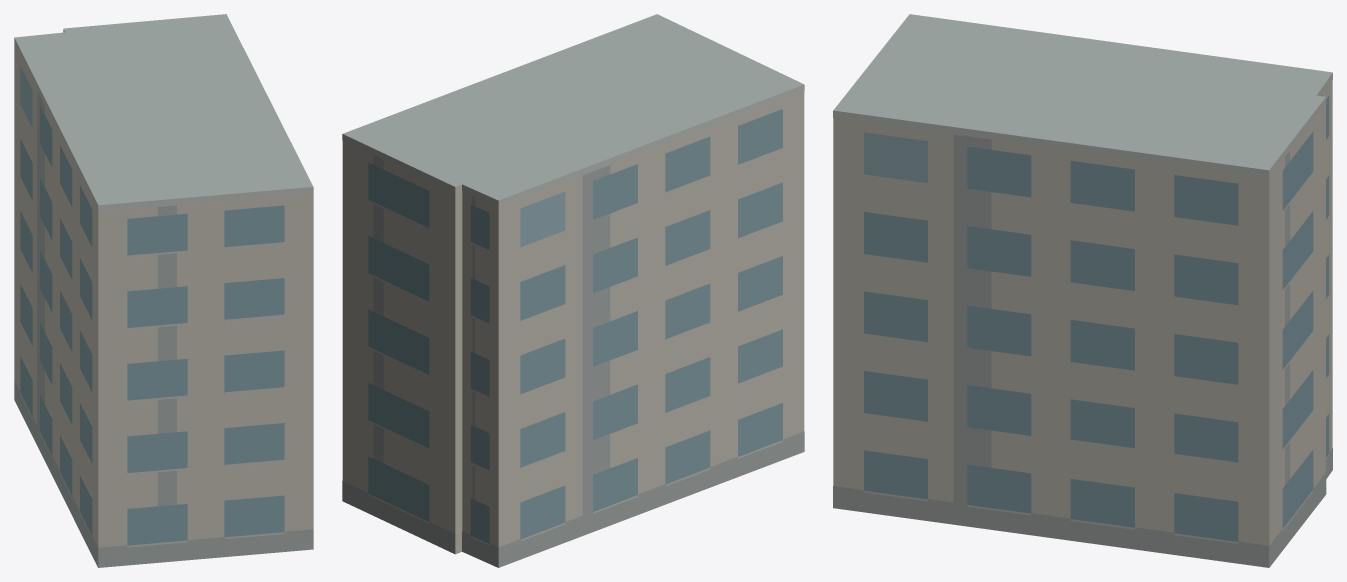
File: survey-upis-32852776.glb
3 views of the same model, side by side, from view 1: azimuth 30°, elevation 25°; view 2: azimuth 150°, elevation 25°; view 3: azimuth 270°, elevation 25° (orthographic). The views are drawn at different scales.
Parts seen in each view (by area): view 1: survey-upis-32852776.tmp; view 2: survey-upis-32852776.tmp; view 3: survey-upis-32852776.tmp.
Part boxes in pixels (x1,y1,x2,y2): survey-upis-32852776.tmp: (14,14,313,567); survey-upis-32852776.tmp: (342,14,804,567); survey-upis-32852776.tmp: (833,14,1332,567).
Size of the model in its own units: 11.14 by 13.2 by 15.04.
